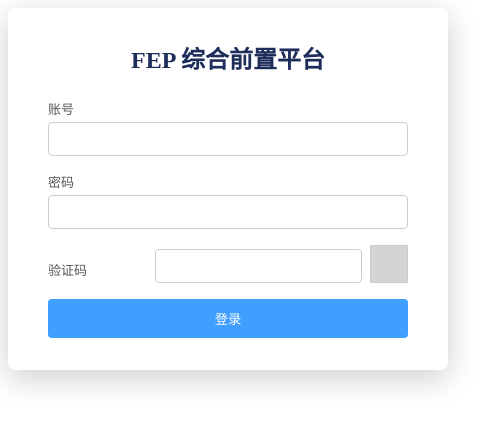
Test: LoginPage validation › rejects account not starting with letter
Type "1abc" into the field named "account" at (228, 139), box [48, 122, 408, 156]
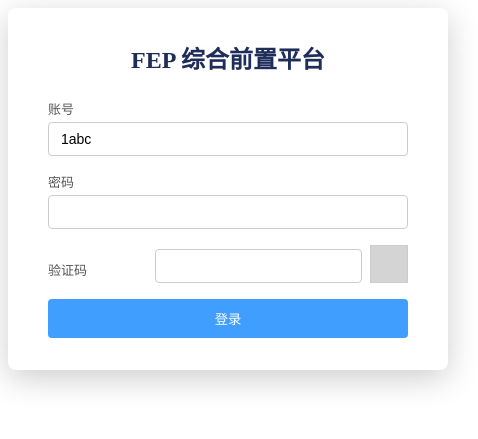
Type "Abc12345" into the password field named "password" at (228, 212), box [48, 195, 408, 229]
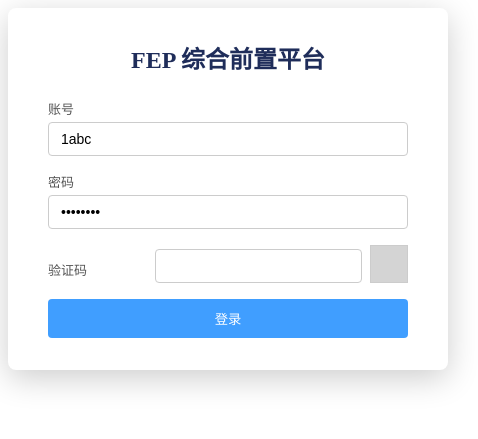
Type "1234" into the field named "captchaCode" at (258, 266), box [155, 249, 362, 283]
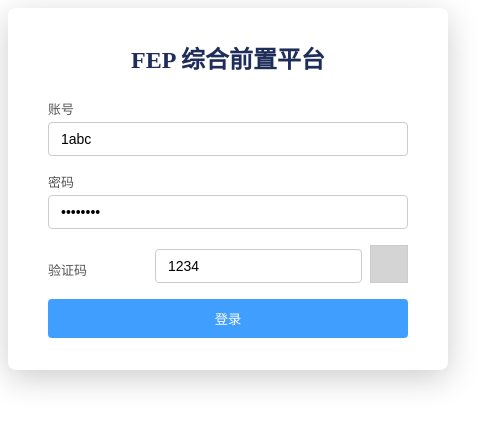
Submit the form, box [48, 99, 408, 338]
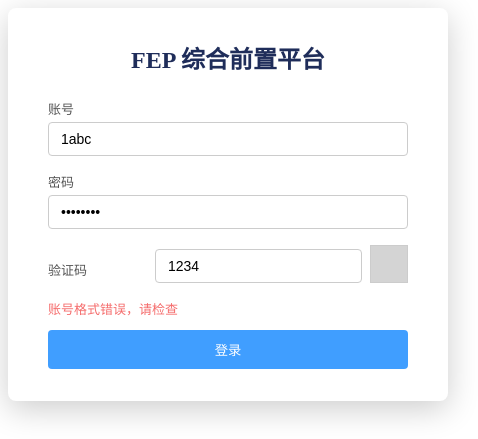
Now the text "账号格式错误，请检查" is shown, box [48, 302, 178, 317]
